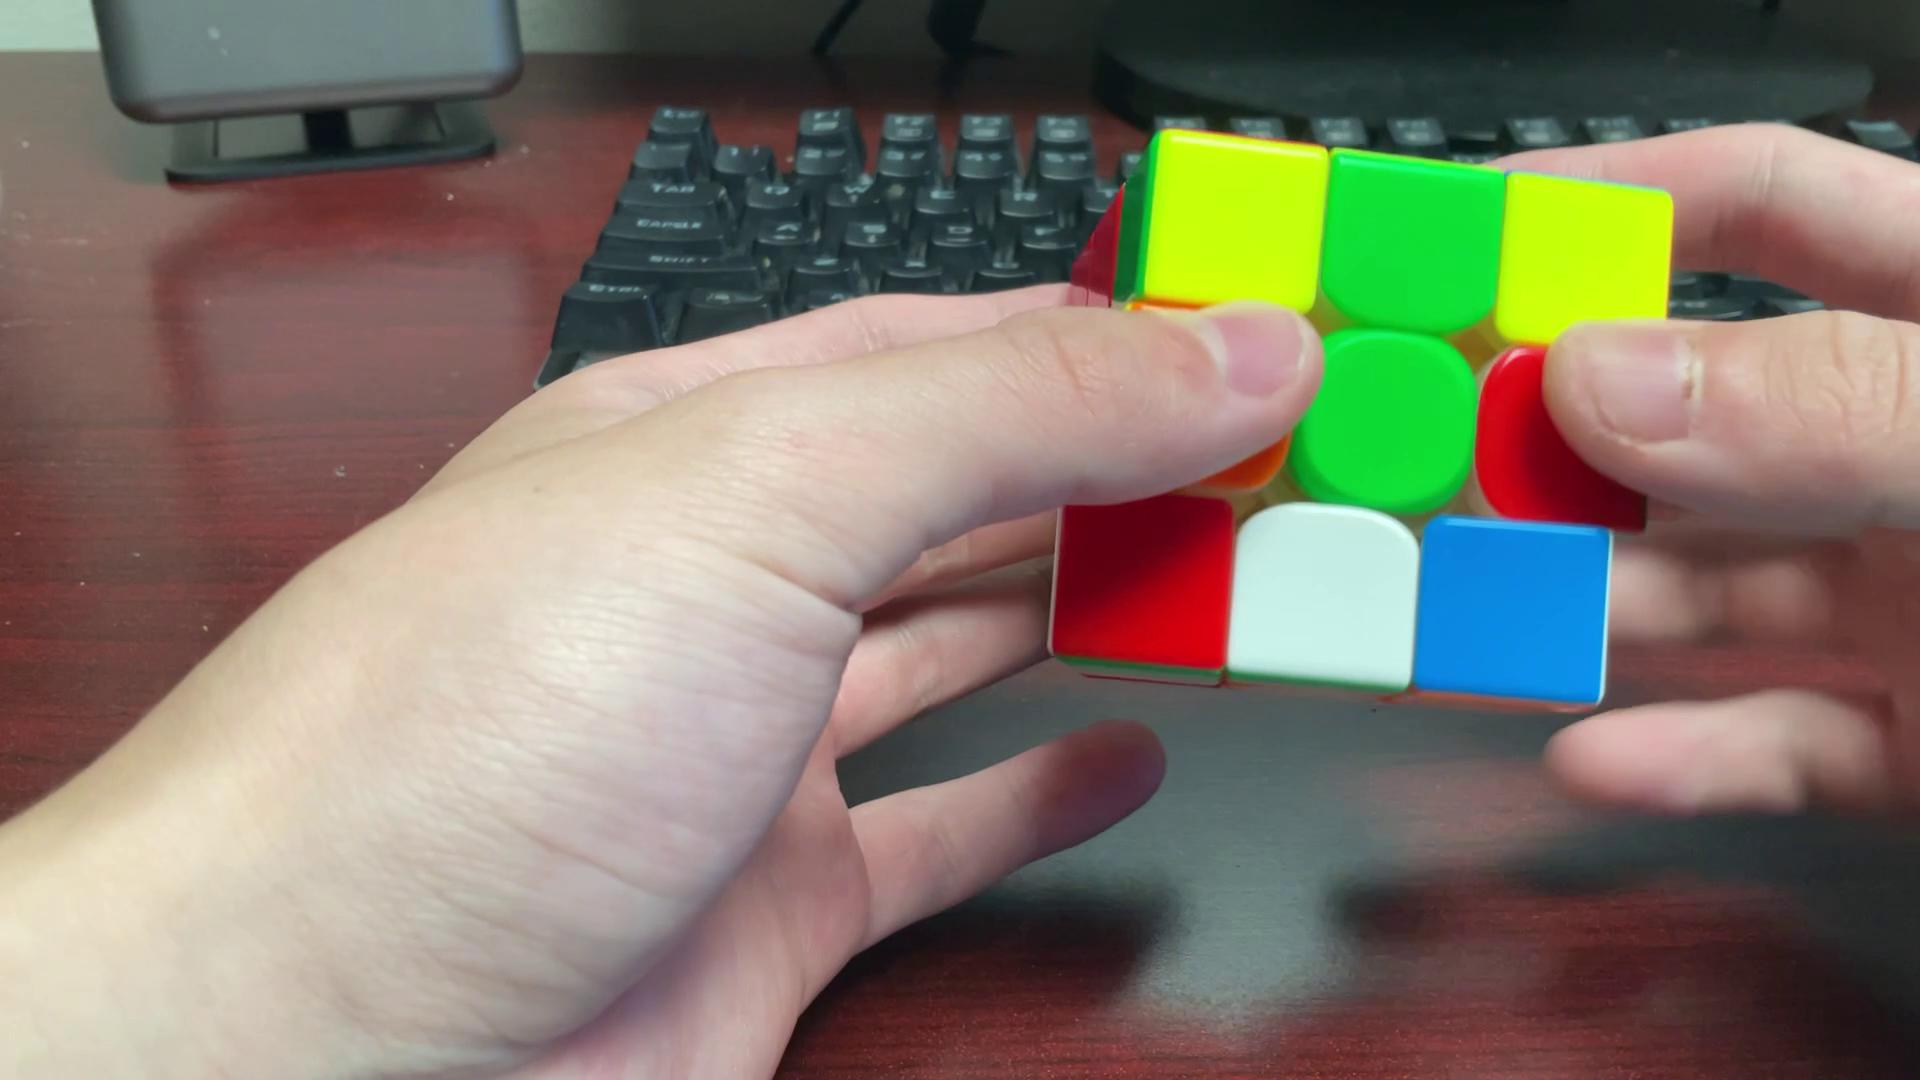Rubiks-Cube: (1049, 122, 1680, 734)
